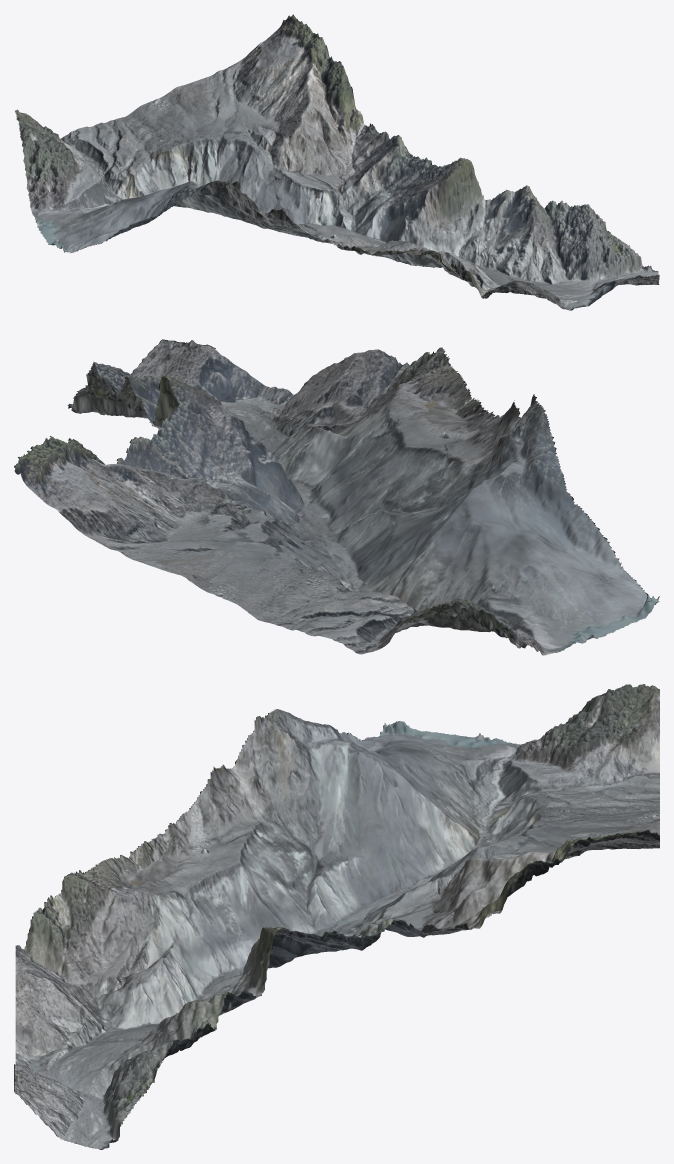
Rendered from matayan_20250930.glb.
3 renders of one model, top to bottom at view 1: azimuth 30°, elevation 25°; view 2: azimuth 150°, elevation 25°; view 3: azimuth 270°, elevation 25°, orthographic. The views are drawn at different scales.
Parts seen in each view (by area): view 1: 馬太鞍溪 UAV DSM・2025-09-30; view 2: 馬太鞍溪 UAV DSM・2025-09-30; view 3: 馬太鞍溪 UAV DSM・2025-09-30.
Part boxes in pixels (x1,y1,x2,y2): 馬太鞍溪 UAV DSM・2025-09-30: [15, 14, 659, 310]; 馬太鞍溪 UAV DSM・2025-09-30: [14, 339, 659, 655]; 馬太鞍溪 UAV DSM・2025-09-30: [14, 684, 659, 1149].
Bounding box in the file's own units: 2605 × 764 × 2135.
Materials: 1 (1 with a texture image).
